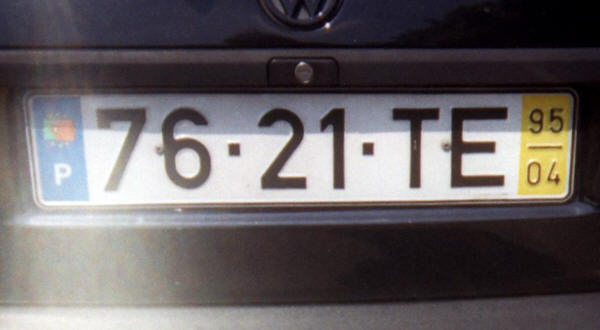license_plate: (22, 89, 578, 210)
